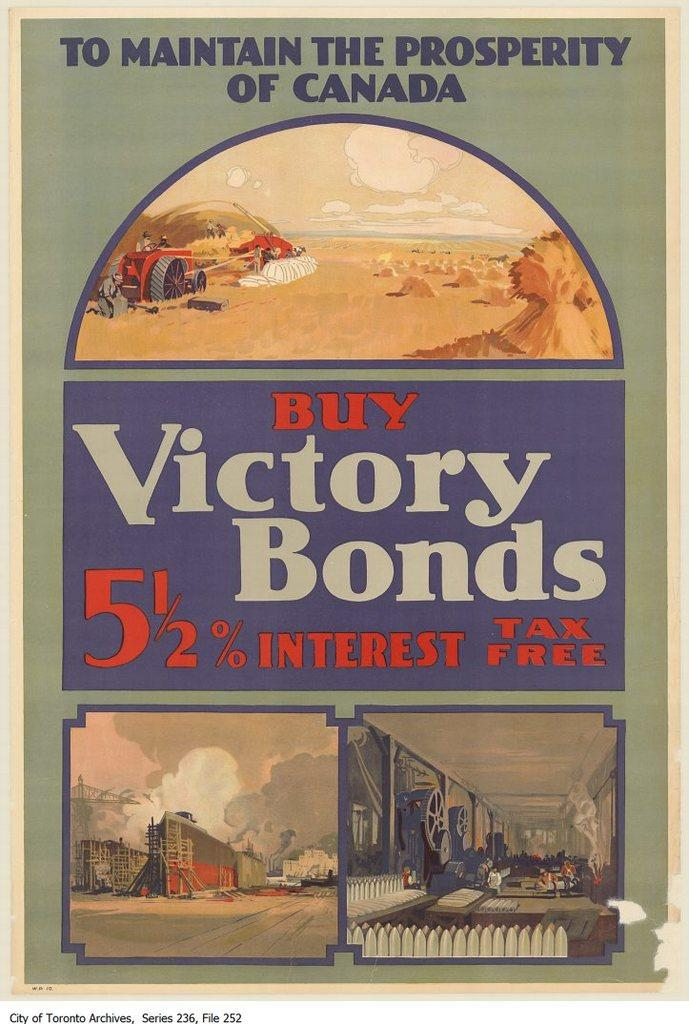book: (6, 10, 680, 990)
